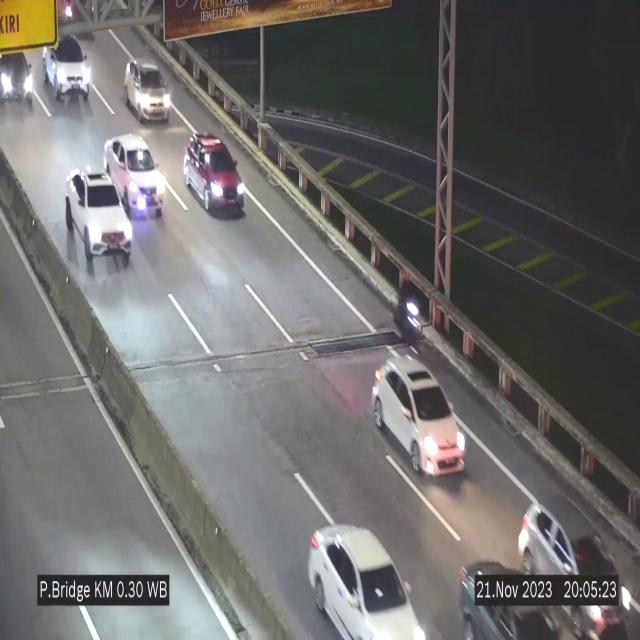Car: (506, 490, 640, 640), (308, 525, 425, 639), (372, 350, 467, 476), (460, 558, 561, 640), (65, 162, 133, 268), (183, 133, 245, 214), (105, 134, 162, 217), (38, 31, 92, 113), (124, 59, 170, 123), (0, 47, 42, 108)
Motorcycle: (392, 272, 422, 347)
